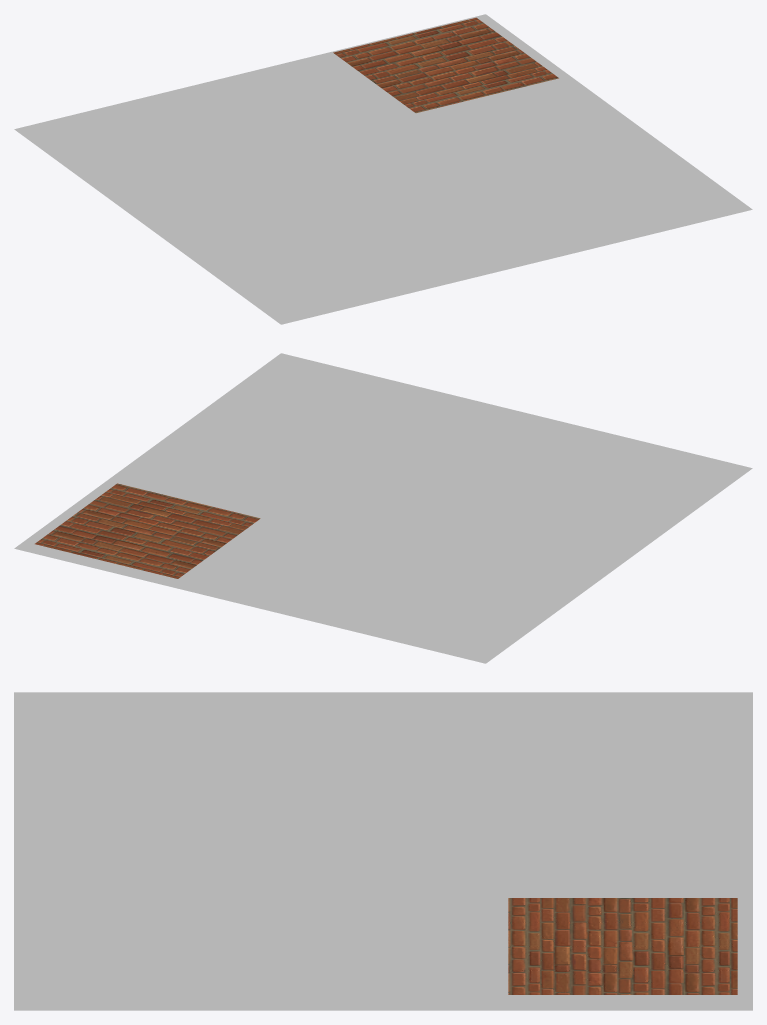
The model's file is walls.FBX.
3 renders of one model, top to bottom at view 1: azimuth 30°, elevation 25°; view 2: azimuth 150°, elevation 25°; view 3: azimuth 270°, elevation 25°, orthographic. The views are drawn at different scales.
Parts seen in each view (by area): view 1: Plane028, Plane022, Plane009, Plane026, Plane020, Plane013, Plane018, Plane021; view 2: Plane028, Plane018, Plane026, Plane021, Plane022, Plane020, Plane009, Plane013; view 3: Plane028, Plane013, Plane026, Plane009, Plane018, Plane020, Plane021, Plane022.
Boxes of the visible parts, x1=… form: Plane028: x1=14, y1=14, x2=752, y2=324; Plane022: x1=269, y1=118, x2=494, y2=213; Plane009: x1=509, y1=145, x2=734, y2=240; Plane026: x1=30, y1=91, x2=255, y2=186; Plane020: x1=333, y1=17, x2=558, y2=113; Plane013: x1=117, y1=155, x2=342, y2=250; Plane018: x1=420, y1=81, x2=645, y2=176; Plane021: x1=182, y1=54, x2=407, y2=149; Plane028: x1=14, y1=353, x2=752, y2=663; Plane018: x1=122, y1=419, x2=347, y2=514; Plane026: x1=338, y1=557, x2=563, y2=652; Plane021: x1=186, y1=520, x2=411, y2=615; Plane022: x1=273, y1=456, x2=498, y2=551; Plane020: x1=35, y1=483, x2=260, y2=578; Plane009: x1=208, y1=355, x2=433, y2=450; Plane013: x1=425, y1=493, x2=650, y2=588; Plane028: x1=14, y1=692, x2=752, y2=1010; Plane013: x1=267, y1=693, x2=496, y2=790; Plane026: x1=508, y1=693, x2=737, y2=790; Plane009: x1=26, y1=898, x2=255, y2=995; Plane018: x1=267, y1=898, x2=496, y2=994; Plane020: x1=508, y1=898, x2=737, y2=994; Plane021: x1=508, y1=796, x2=737, y2=892; Plane022: x1=267, y1=796, x2=496, y2=892.
Size of the model in its own units: 517 by 4.41 by 507.
